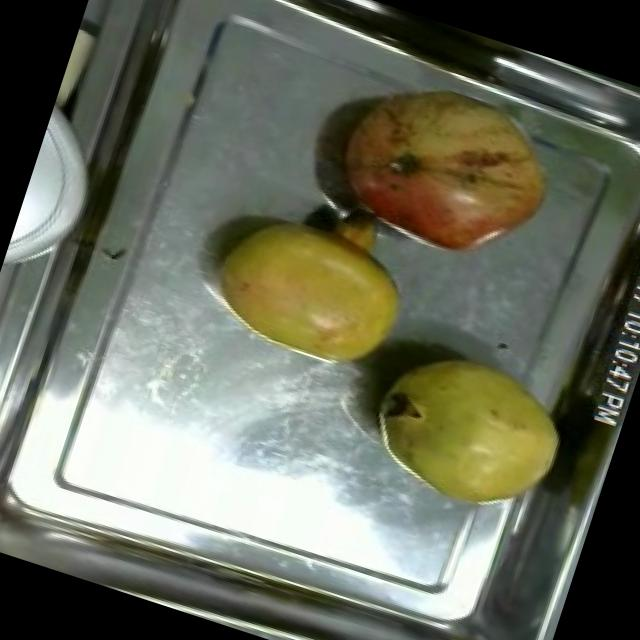fruit: (310, 56, 580, 285), (189, 185, 432, 394), (347, 325, 586, 534), (44, 8, 114, 145)
